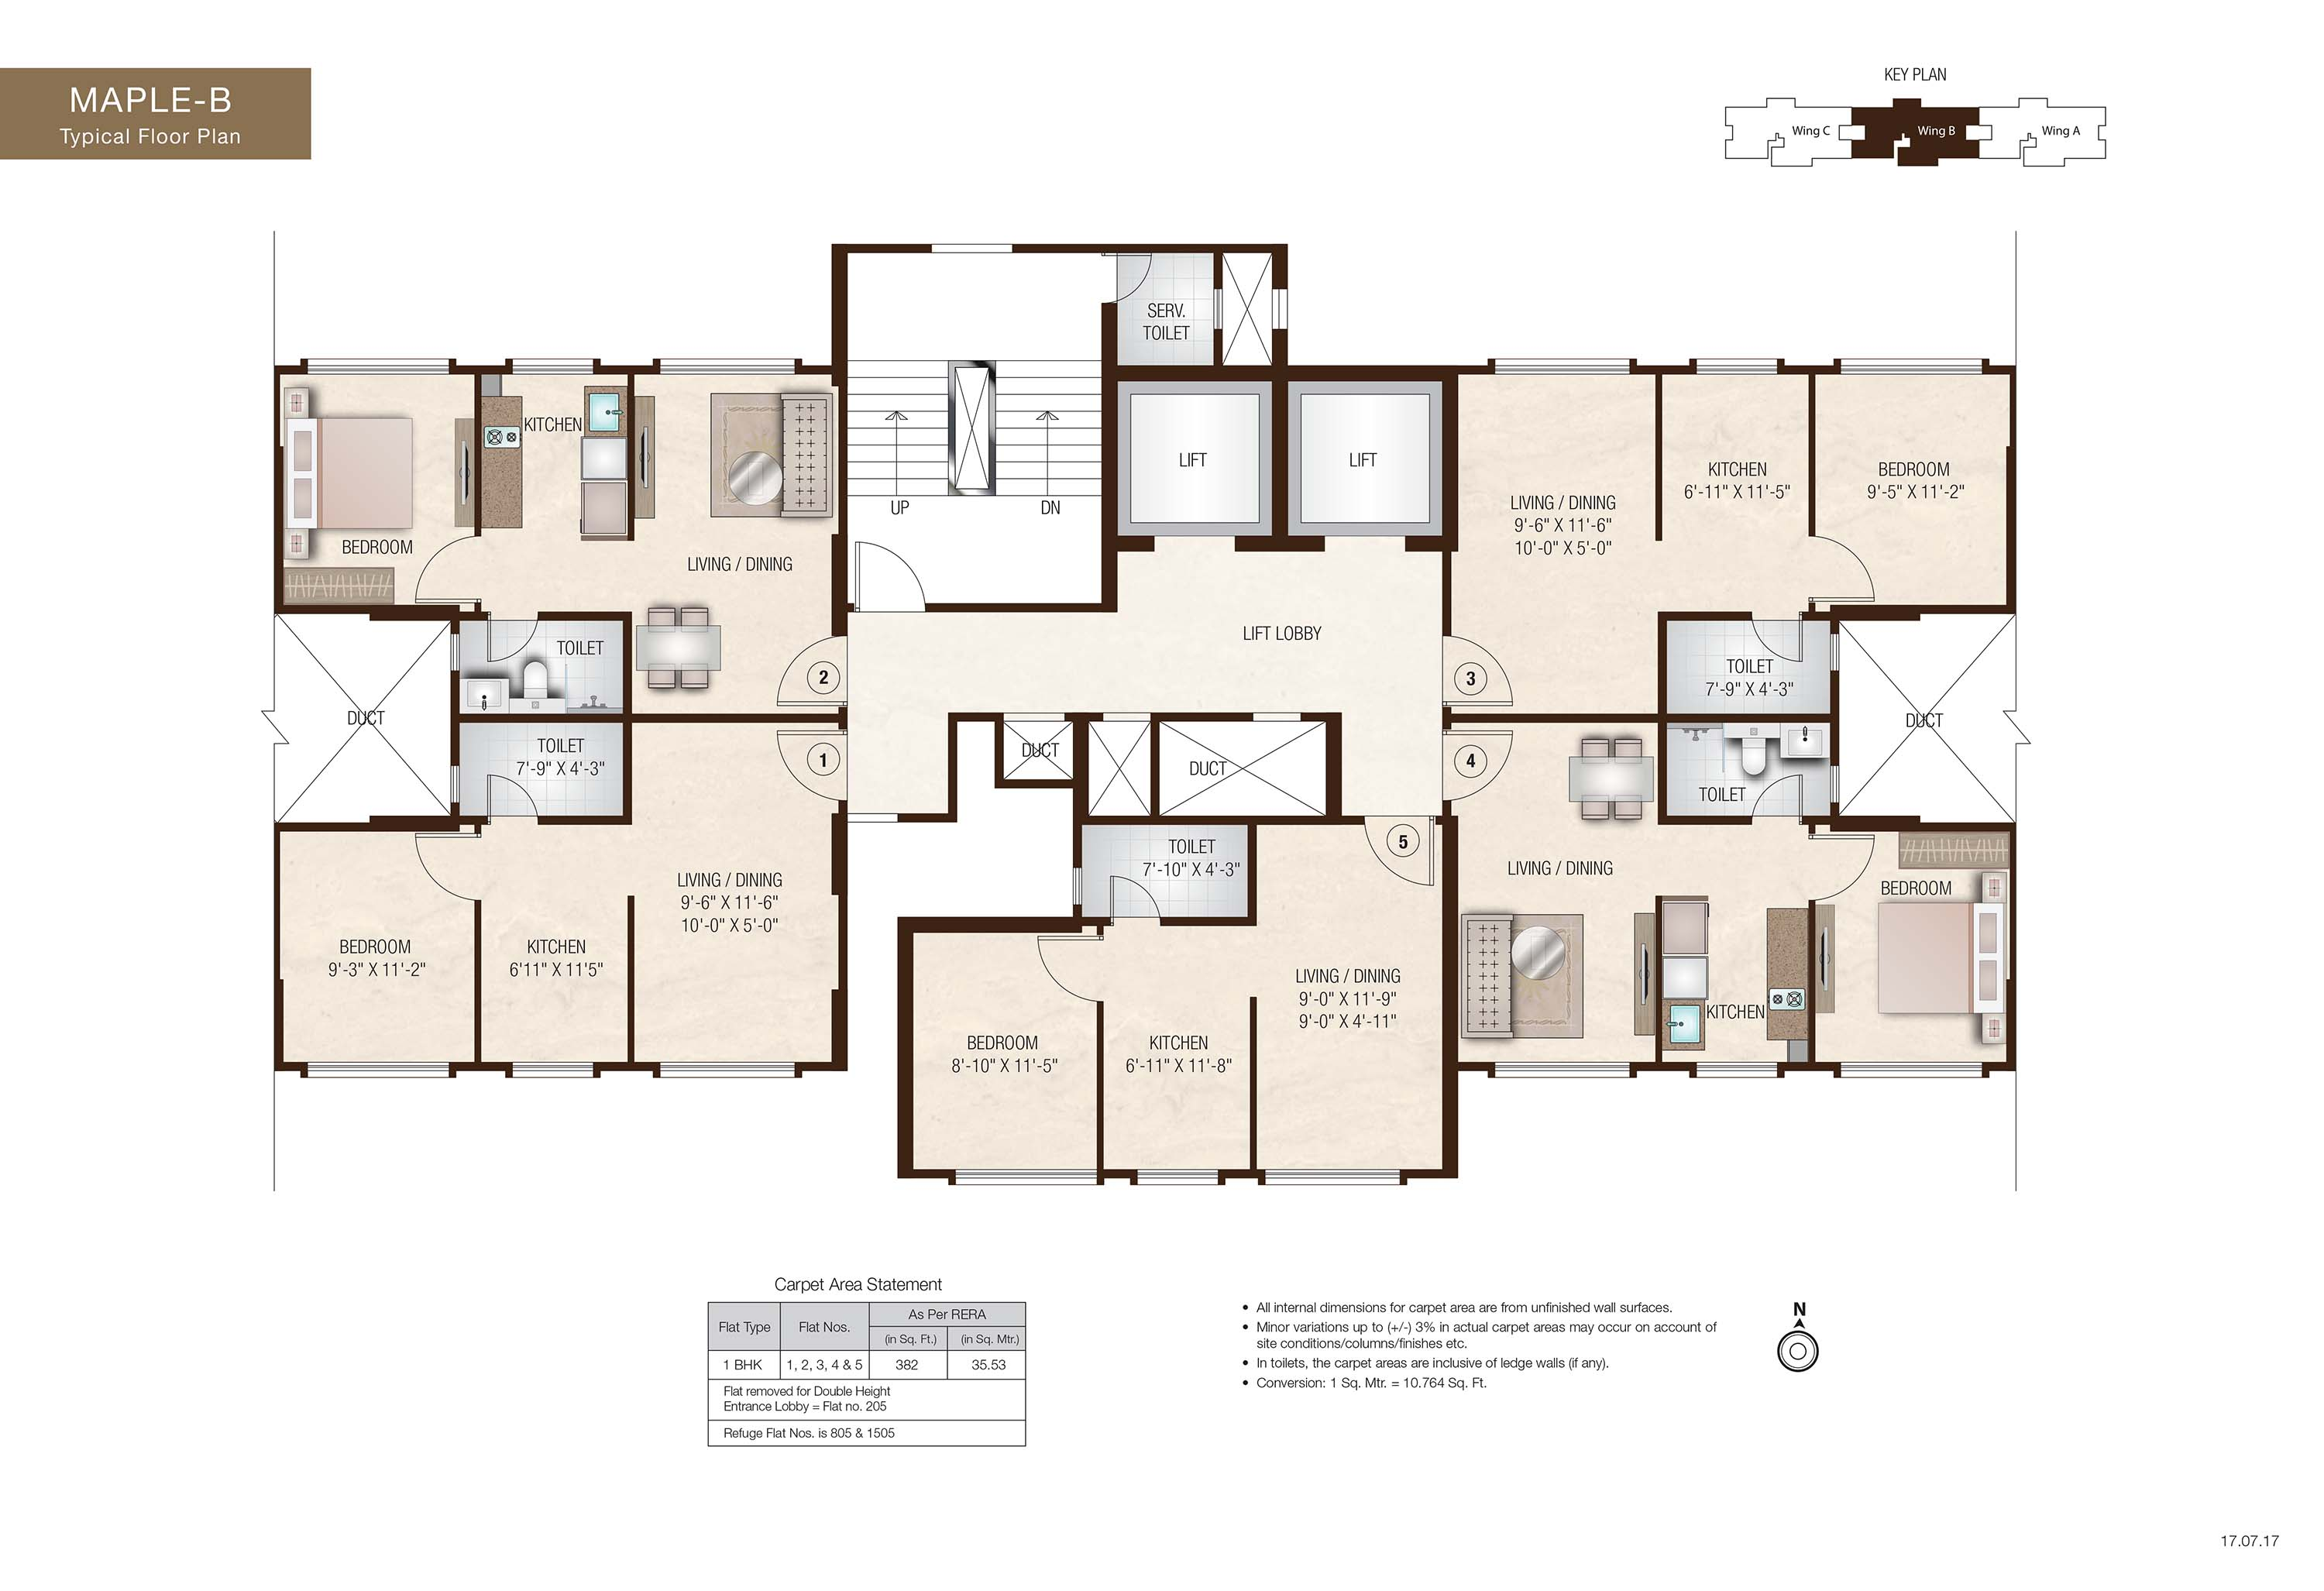door: (1452, 726, 1526, 805), (1457, 630, 1531, 708), (1363, 821, 1436, 894), (1817, 535, 1884, 604), (851, 537, 922, 602), (411, 833, 475, 906), (1031, 934, 1097, 1003), (1812, 832, 1877, 899), (773, 729, 832, 803), (413, 533, 473, 604), (772, 634, 832, 705), (480, 768, 537, 814), (484, 620, 539, 664), (1107, 869, 1157, 916), (1754, 772, 1807, 812), (1757, 625, 1807, 662), (1120, 253, 1157, 298)
